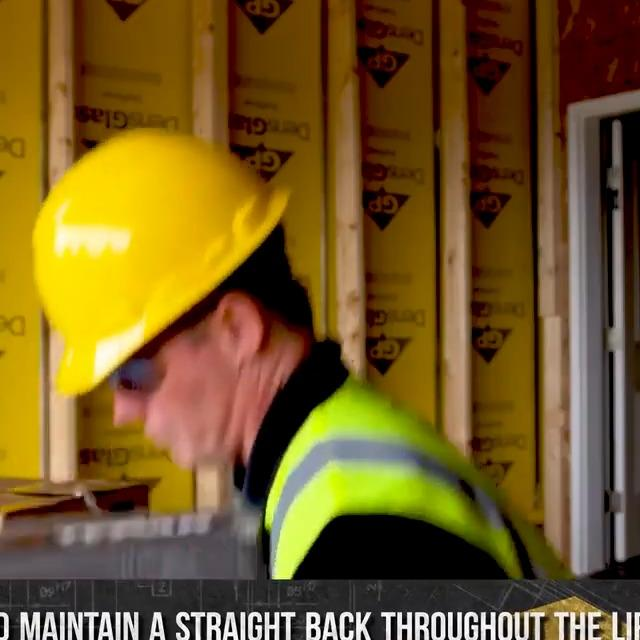Hardhat: (32, 126, 292, 398)
NO-Mask: (163, 369, 240, 468)
Person: (33, 123, 566, 575)
Safety Vest: (265, 380, 564, 578)
